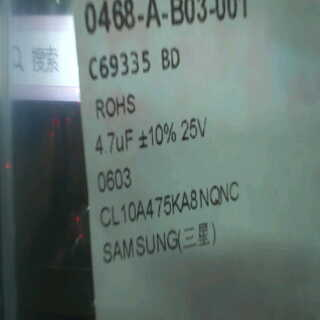4.7uF: (90, 123, 135, 163)
